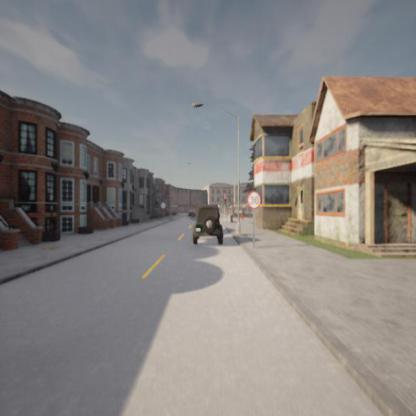traffic_sign_30: (249, 192, 262, 208)
vehicle: (192, 203, 223, 243)
